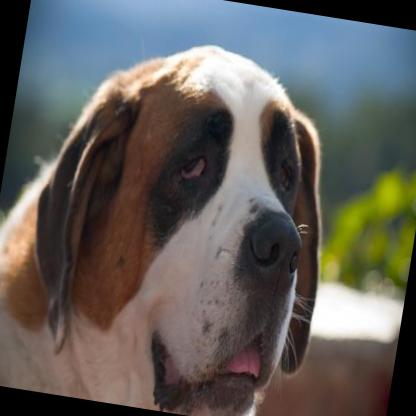Saint_Bernard: (0, 12, 352, 416)
